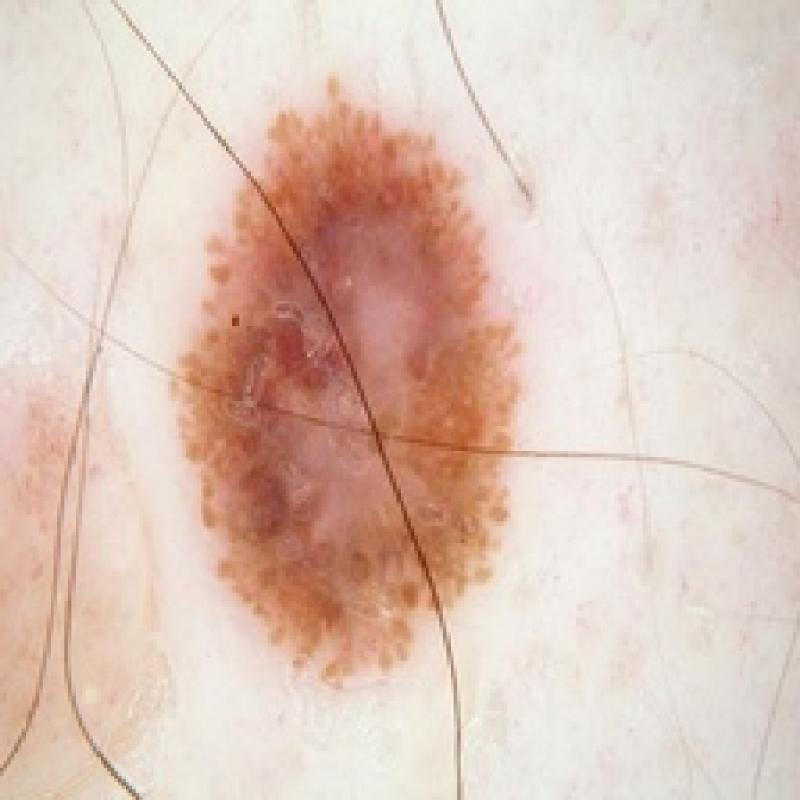malignant: (164, 80, 568, 697)
